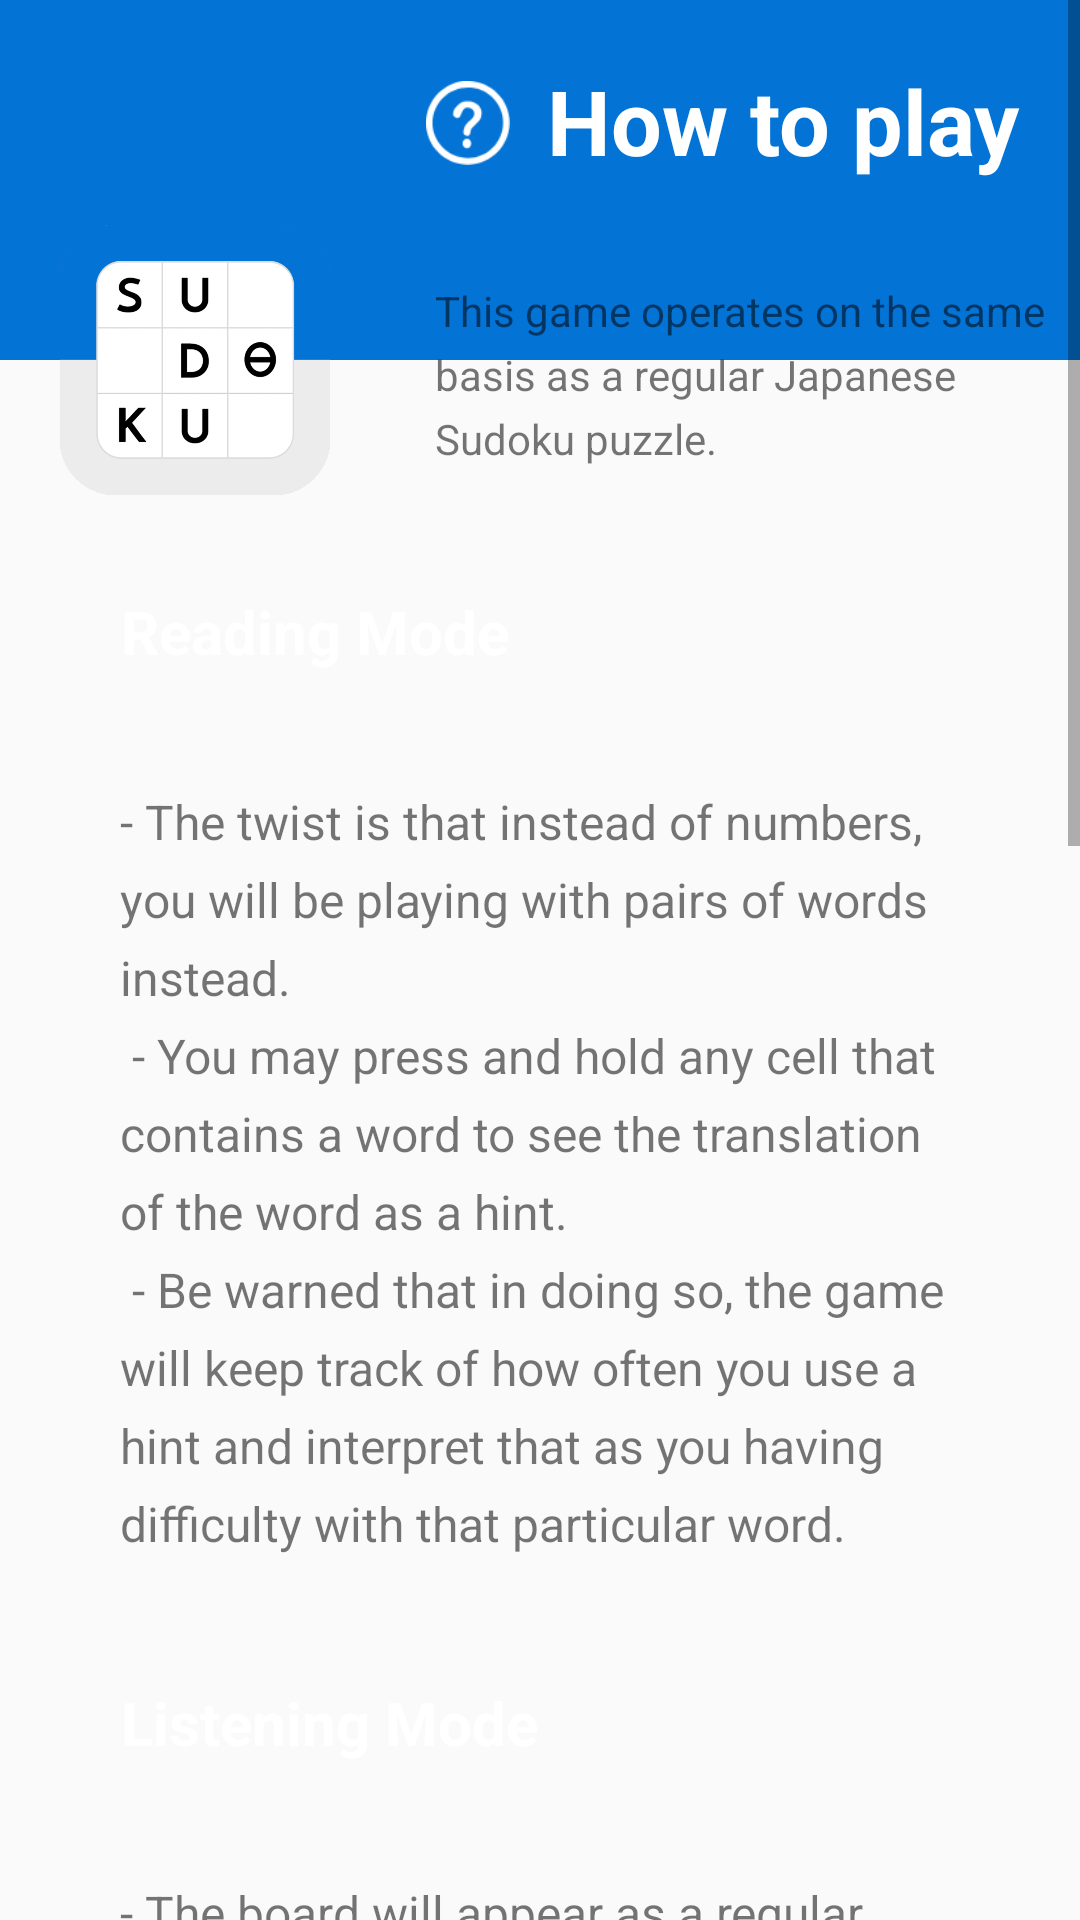

Screen size 1080 x 1920. Icon name, then its center in pixels as point (x, y):
app: point (195, 360)
help: point (468, 123)
